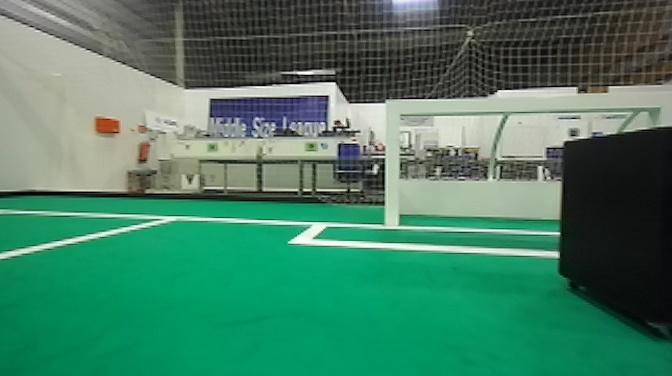goalpost: (374, 96, 412, 235), (644, 80, 672, 124)
